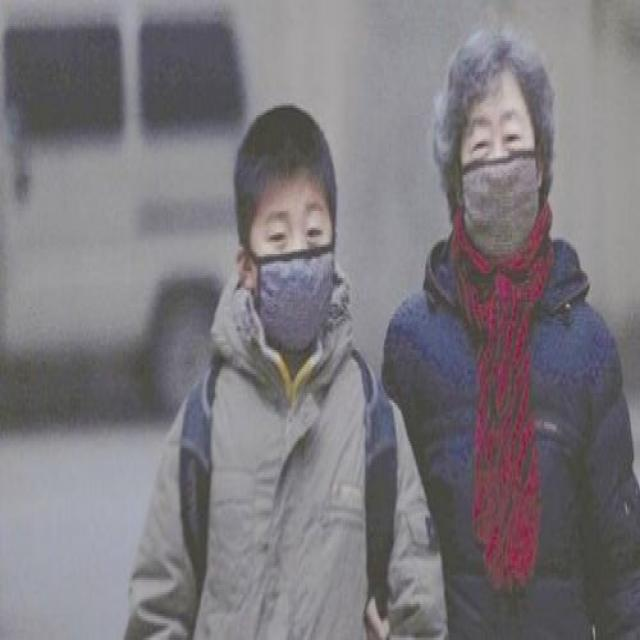mask: (248, 175, 333, 343), (462, 82, 539, 254)
